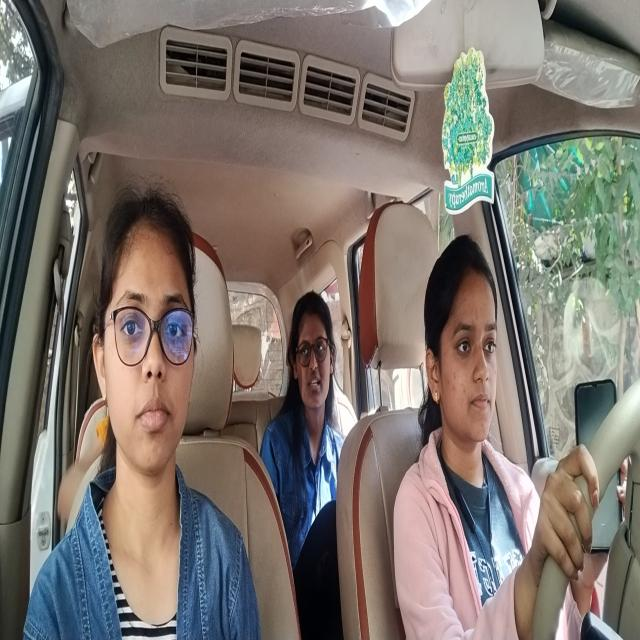mobile: (572, 368, 625, 576)
person: (91, 181, 204, 494), (423, 223, 502, 480), (286, 283, 341, 435)
